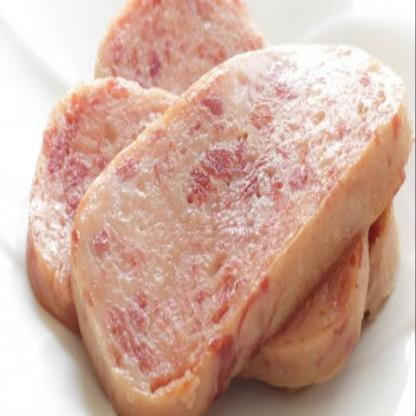spam: (70, 13, 404, 415)
